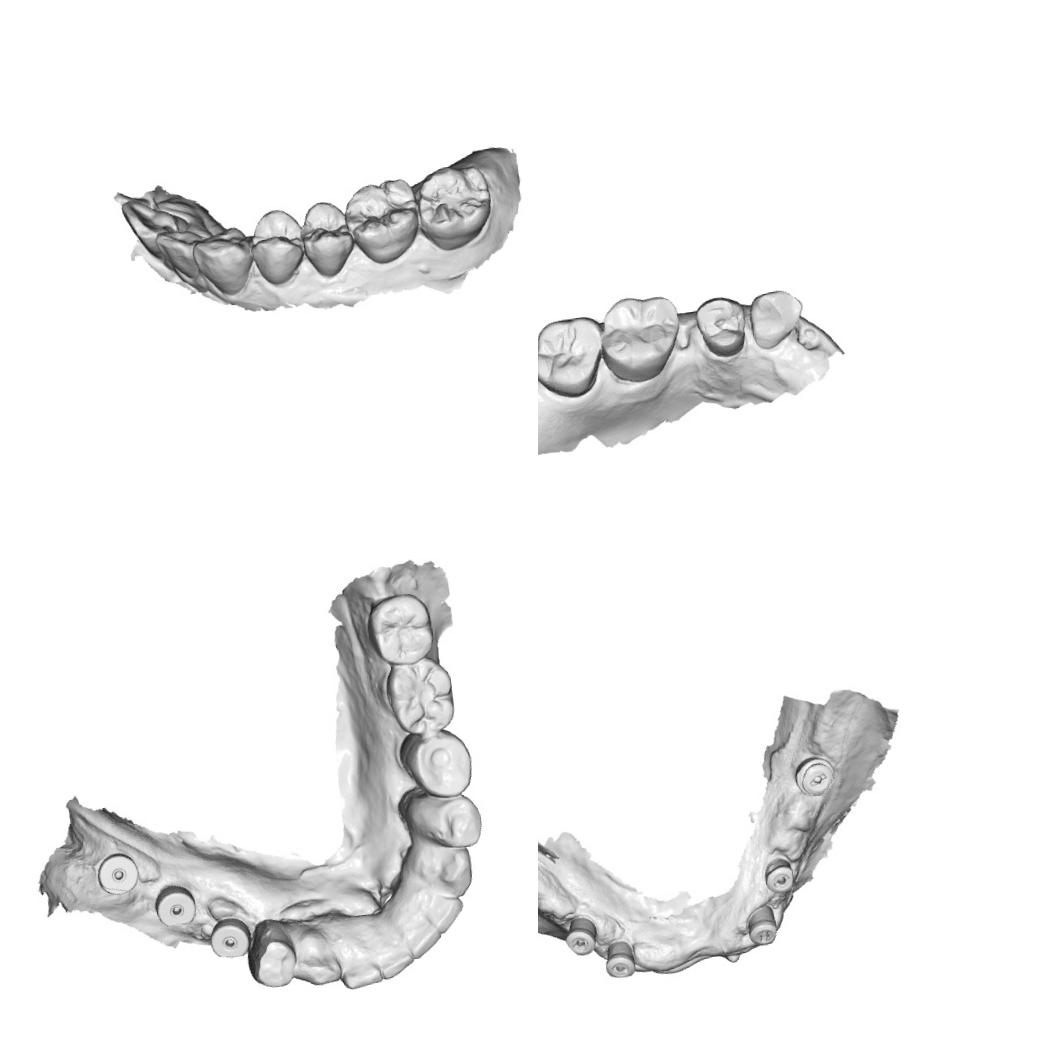canine: (189, 224, 260, 300), (744, 282, 810, 355), (290, 918, 340, 991), (422, 840, 476, 898)
implant: (94, 851, 139, 899), (152, 883, 194, 928), (210, 918, 250, 959), (601, 938, 638, 982)
implant_minus: (789, 741, 838, 800), (744, 902, 780, 948), (761, 855, 797, 897)
implant_plus: (562, 913, 602, 959)
incisor: (120, 190, 194, 268), (152, 222, 218, 294), (399, 913, 444, 963), (423, 891, 468, 936), (338, 951, 382, 993), (375, 936, 415, 979)
molar: (596, 288, 688, 386), (339, 173, 429, 268), (411, 160, 498, 254), (538, 310, 610, 403), (382, 657, 460, 738), (363, 588, 438, 668)
premolar: (243, 202, 314, 291), (295, 195, 362, 284), (404, 783, 486, 853), (402, 727, 476, 802), (690, 291, 750, 362), (246, 922, 300, 994)
